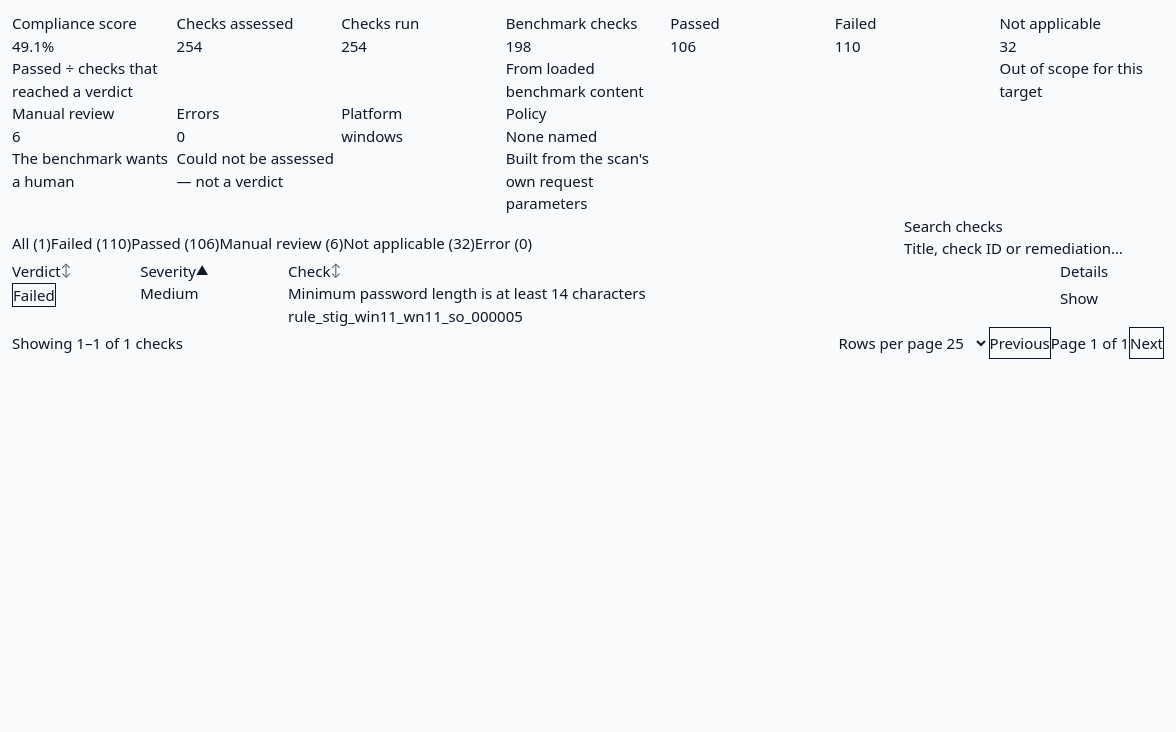
ConfigAuditSection — detail and evidence › keeps evidence out of the DOM until it is asked for
Check: the text "password_policy[min_length]=0" is not shown
Click the button "Show".
click(1079, 298)  # box [1060, 282, 1098, 314]
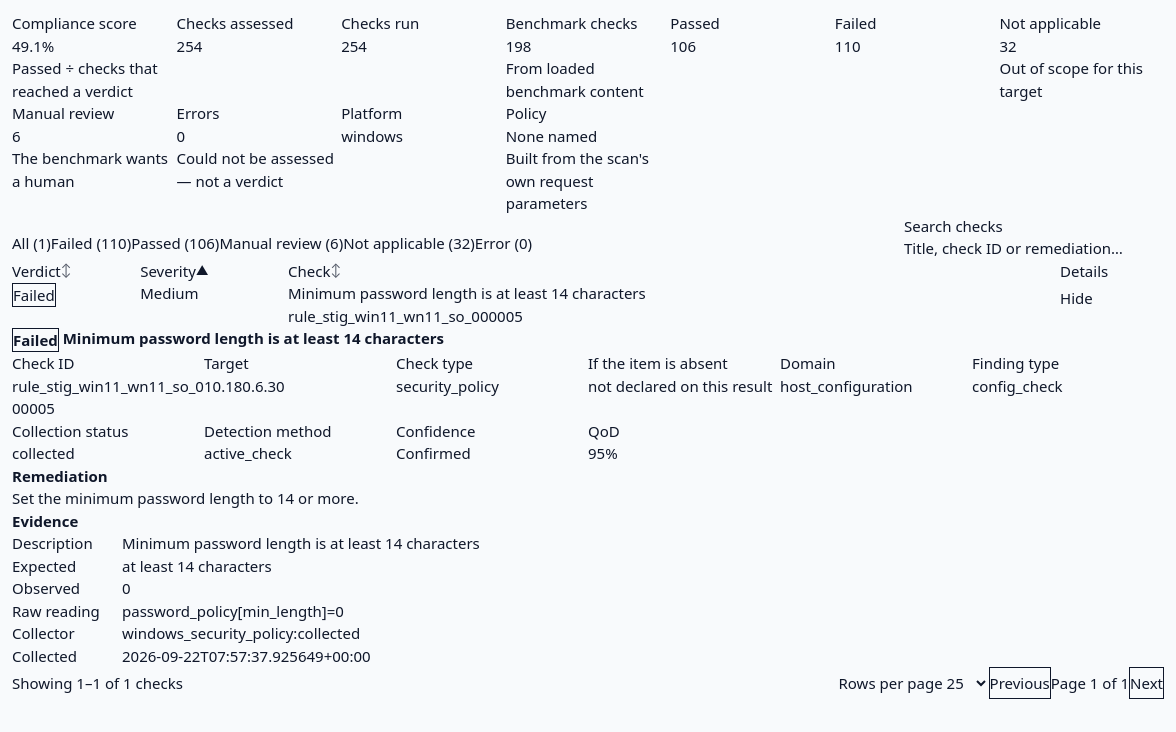
Check: the text "password_policy[min_length]=0" is shown, box [122, 601, 344, 621]
Check: the text "at least 14 characters" is shown, box [122, 556, 272, 576]
Check: the text "Set the minimum password length to 14 or more." is shown, box [12, 488, 359, 508]
